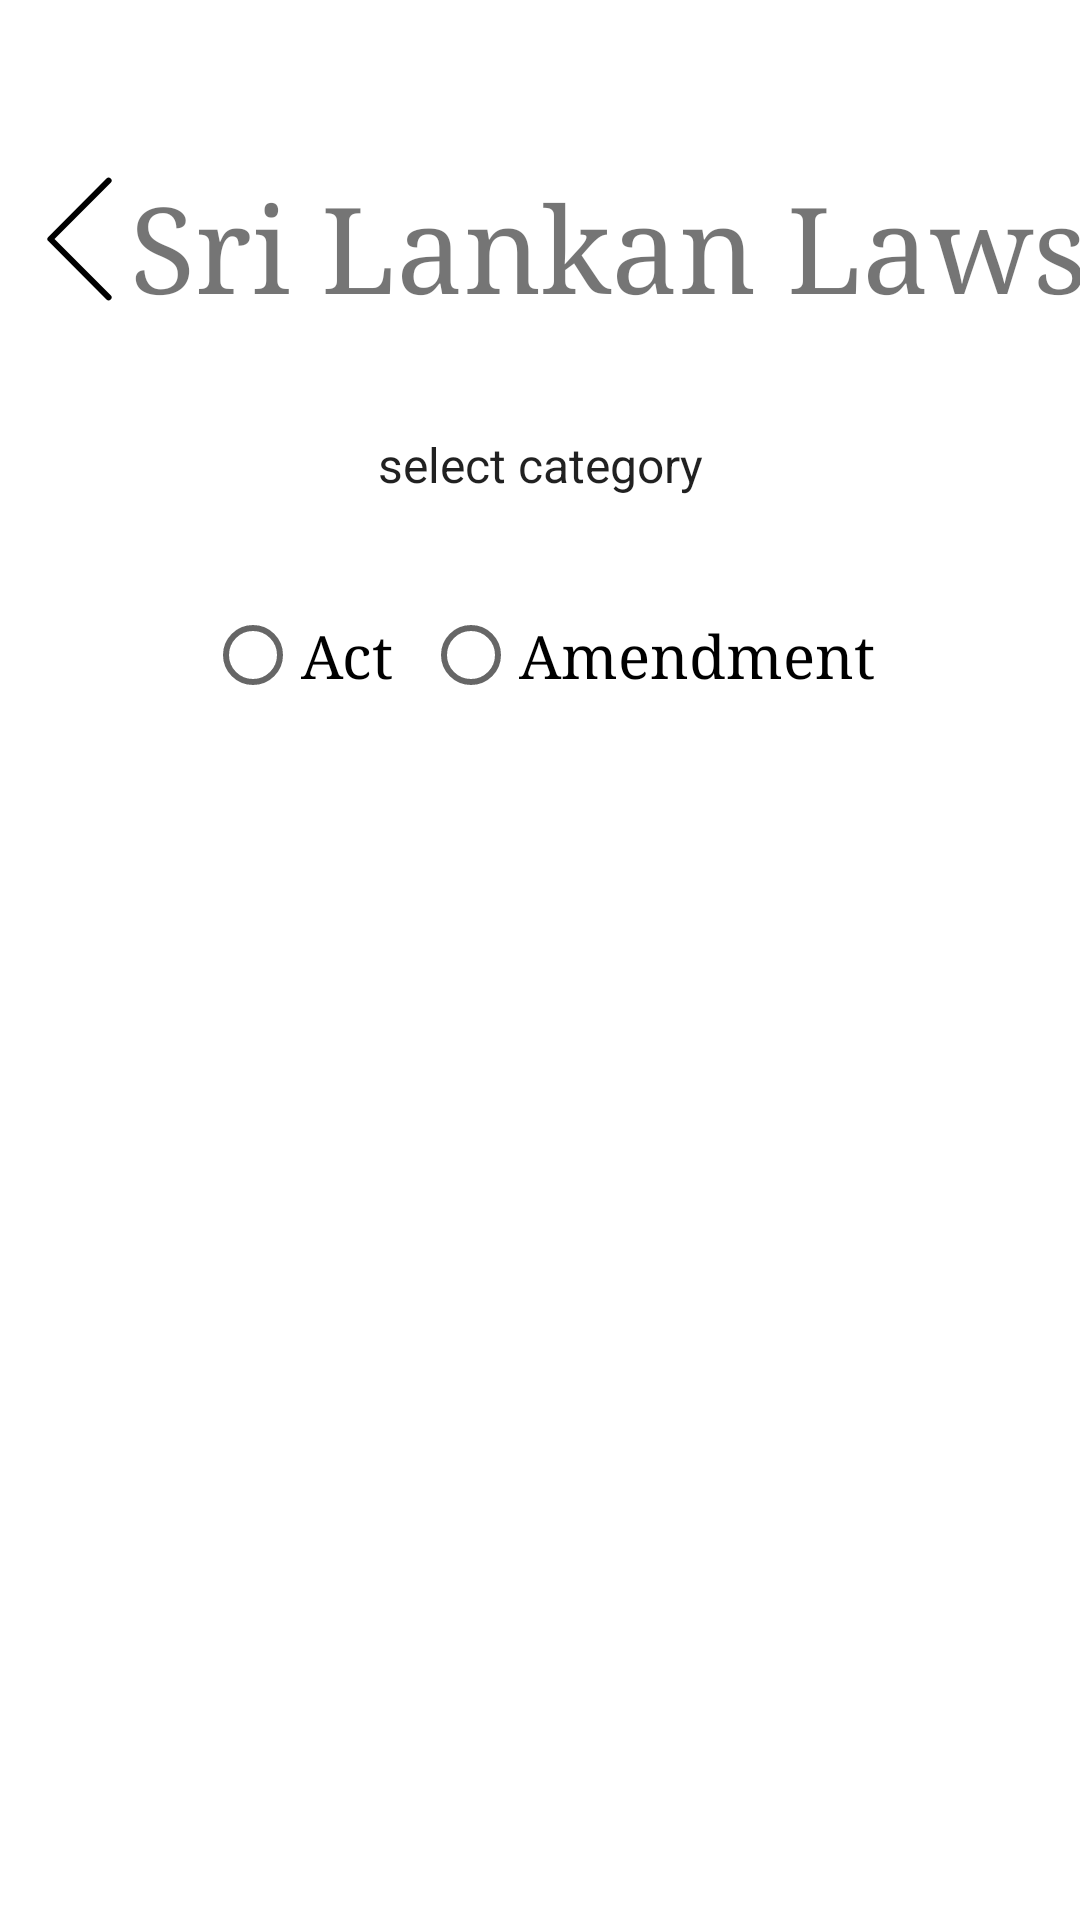

Where to tap for icons on this 1080 x 1920 app screen, as (x=x, y=y):
return back: (x=79, y=239)
